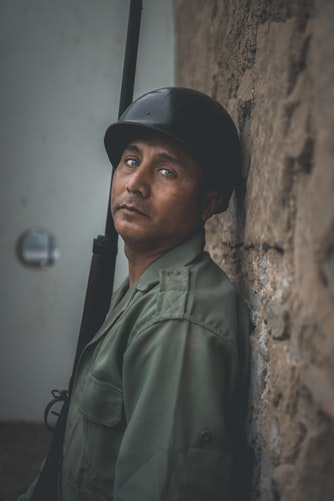helmet: (115, 81, 241, 184)
